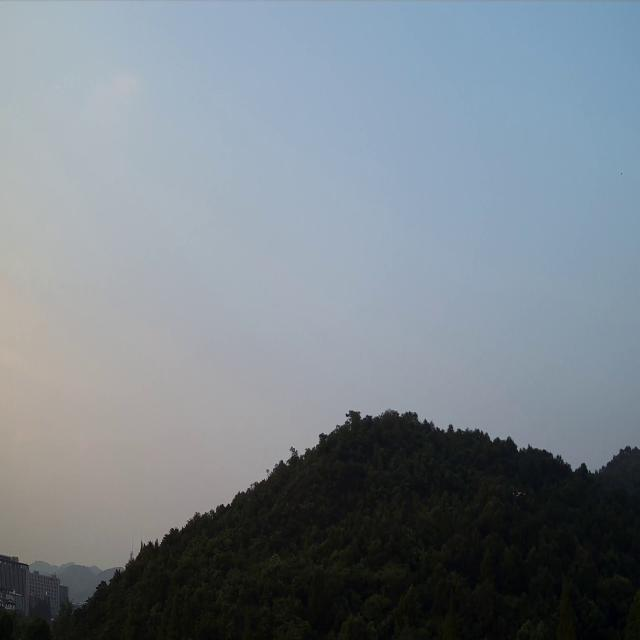UAV: (513, 489, 526, 499)
